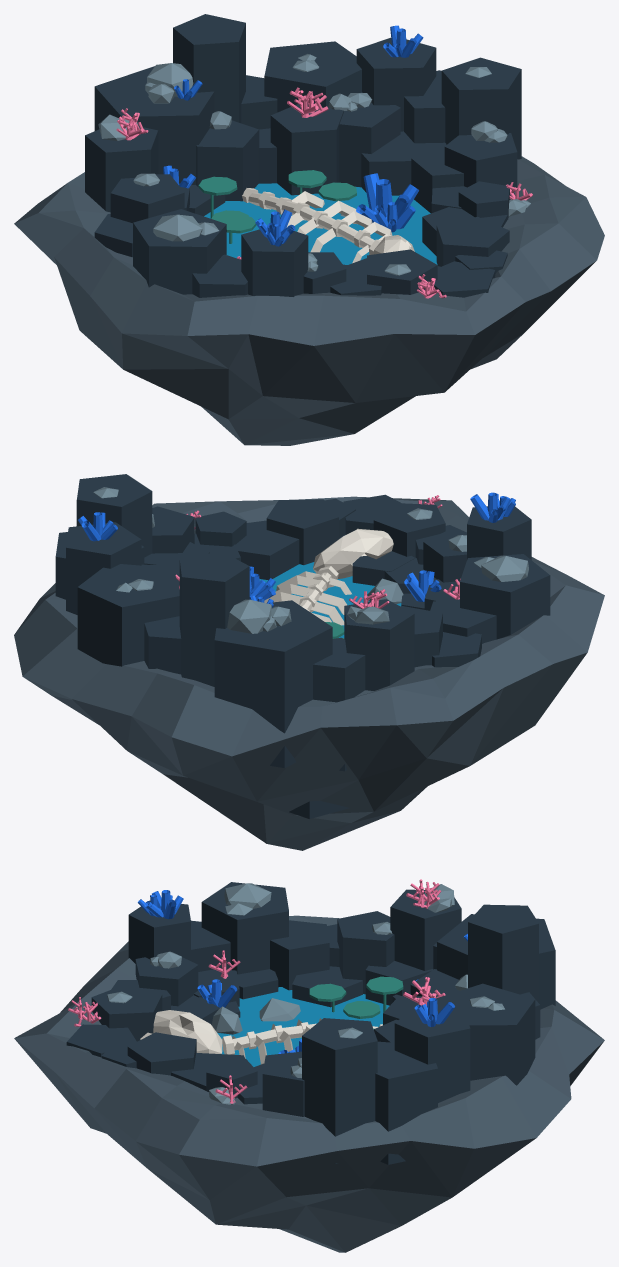
Rendered from Island_Blue.glb.
The picture shows the model from 3 angles, top to bottom: view 1: azimuth 30°, elevation 25°; view 2: azimuth 150°, elevation 25°; view 3: azimuth 270°, elevation 25°; orthographic projection. The views are drawn at different scales.
Visible parts, largest first — view 1: Cone, Cylinder.011, Cylinder.028, Cylinder.009, Cylinder, Cylinder.031, Cylinder.032, Plane, Cylinder.008, Cylinder.013, Cylinder.019, Cylinder.005 (+33 smaller); view 2: Cone, Cylinder.011, Cylinder.031, Cylinder.028, Cylinder, Cylinder.013, Cylinder.009, Cylinder.008, Cylinder.039, Cylinder.019, Cylinder.012, Cylinder.038 (+24 smaller); view 3: Cone, Cylinder.009, Cylinder.031, Cylinder.028, Cylinder, Cylinder.008, Cylinder.007, Cylinder.013, Plane, Cylinder.014, Cylinder.002, Cylinder.019 (+30 smaller).
Boxes of the visible parts, x1,y1,x2,y2 form: Cone: (14,156,604,445); Cylinder.011: (94,66,214,184); Cylinder.028: (173,14,245,123); Cylinder.009: (441,57,521,159); Cylinder: (133,209,226,294); Cylinder.031: (264,41,361,112); Cylinder.032: (270,104,343,195); Plane: (204,183,437,264); Cylinder.008: (356,37,436,131); Cylinder.013: (85,126,158,212); Cylinder.019: (241,229,308,296); Cylinder.005: (196,120,259,201); Cone: (14,496,604,850); Cylinder.011: (214,600,332,768); Cylinder.031: (77,564,179,666); Cylinder.028: (179,551,249,686); Cylinder: (460,554,550,639); Cylinder.013: (344,599,414,690); Cylinder.009: (76,474,152,557); Cylinder.008: (66,522,141,614); Cylinder.039: (266,499,338,565); Cylinder.019: (467,506,531,559); Cylinder.012: (313,637,365,771); Cylinder.038: (235,520,299,580); Cone: (14,915,604,1252); Cylinder.009: (302,1018,377,1163); Cylinder.031: (436,983,535,1085); Cylinder.028: (468,904,538,1002); Cylinder: (201,882,288,974); Cylinder.008: (394,1005,470,1102); Cylinder.007: (375,1041,437,1164); Cylinder.013: (390,889,461,970); Plane: (217,987,389,1066); Cylinder.014: (337,911,394,994); Cylinder.002: (270,920,329,990); Cylinder.019: (128,900,190,963).
Bounding box in the file's own units: 7.42 × 5.14 × 8.15.
